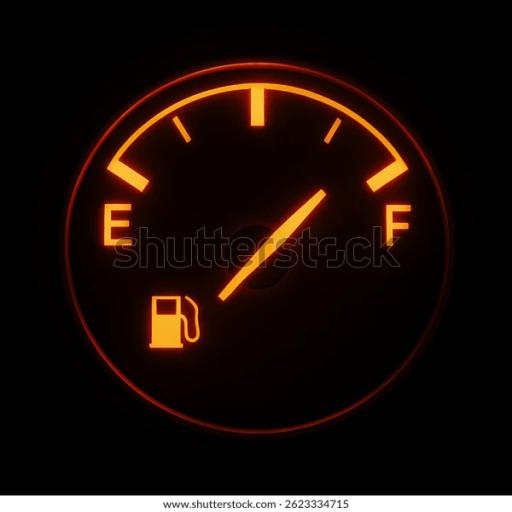empty: (98, 195, 136, 249)
fuel_icon: (146, 290, 200, 352)
full: (379, 200, 411, 250)
guage_area: (55, 58, 465, 448)
needle_center: (230, 222, 297, 288)
needle_tip: (314, 179, 330, 209)
